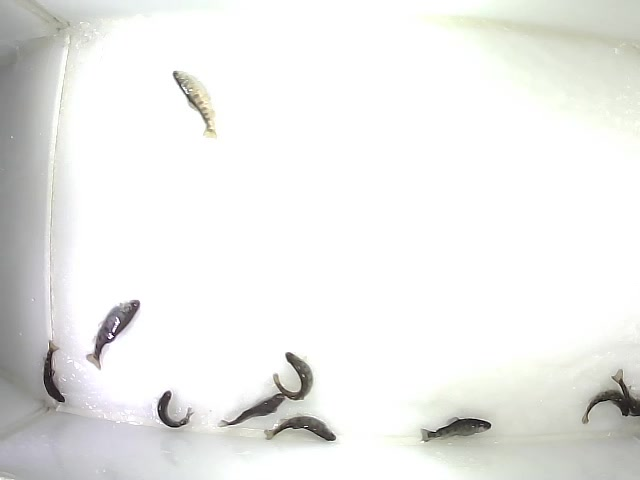fish: (84, 298, 143, 374), (171, 69, 218, 140), (215, 391, 287, 428), (263, 413, 337, 444), (271, 350, 314, 402), (417, 415, 492, 443), (580, 388, 631, 425), (40, 339, 67, 405), (156, 388, 195, 430), (611, 366, 640, 418)
